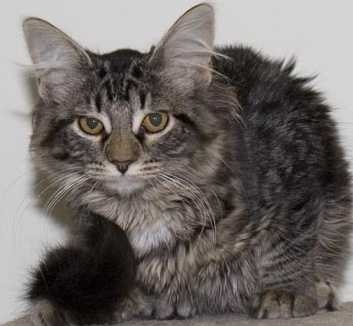Cat: (29, 20, 351, 325)
